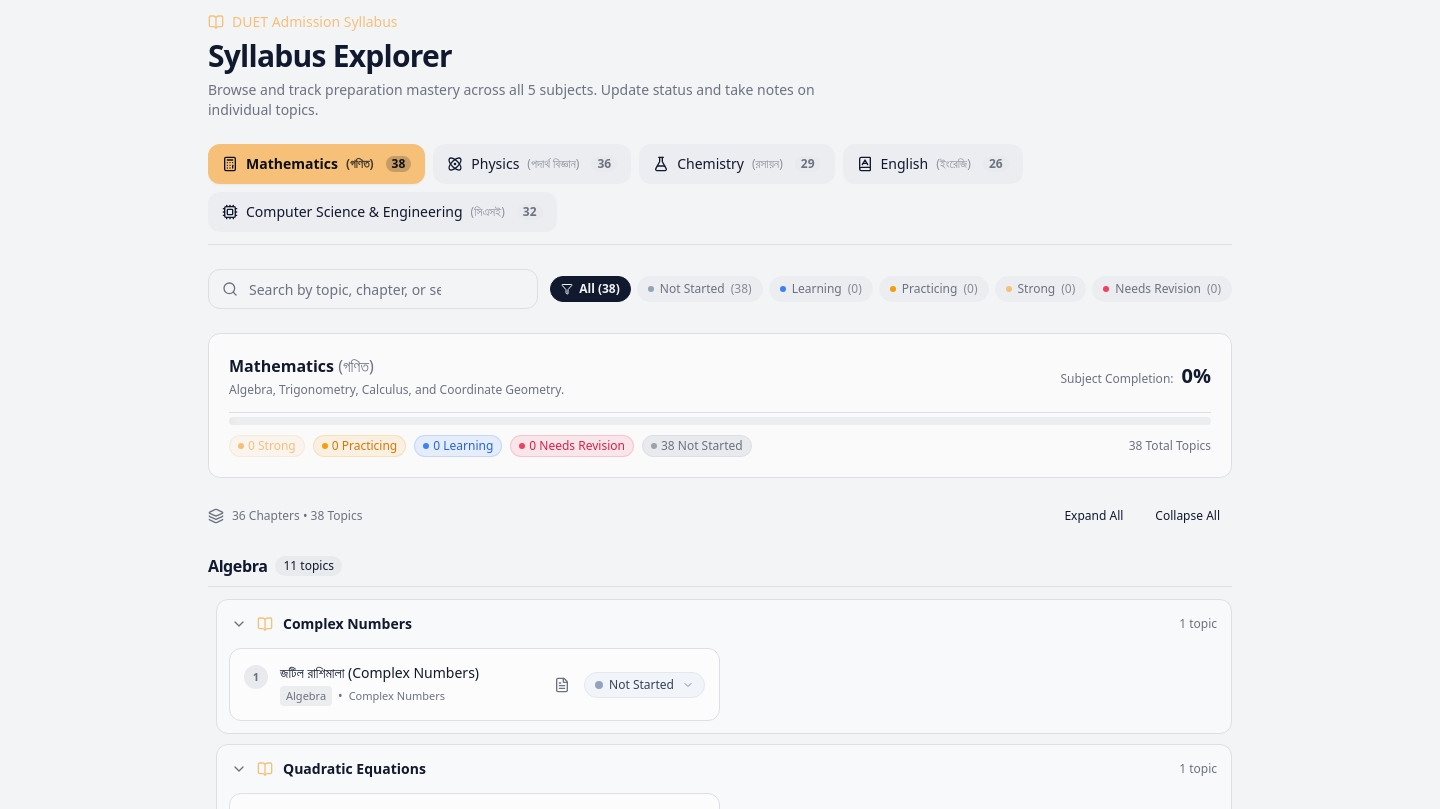
Test: SyllabusPage › displays status breakdown counts and updates topic status
The image size is (1440, 809).
expect the text "All (38)" is shown: met, box top-left (579, 281), bottom-right (620, 297)
expect the text "0 Strong" is shown: met, box top-left (229, 435), bottom-right (305, 457)
Open dropdown for the first topic
Click the button "Not Started".
click(645, 685)  # box top-left (584, 672), bottom-right (705, 698)
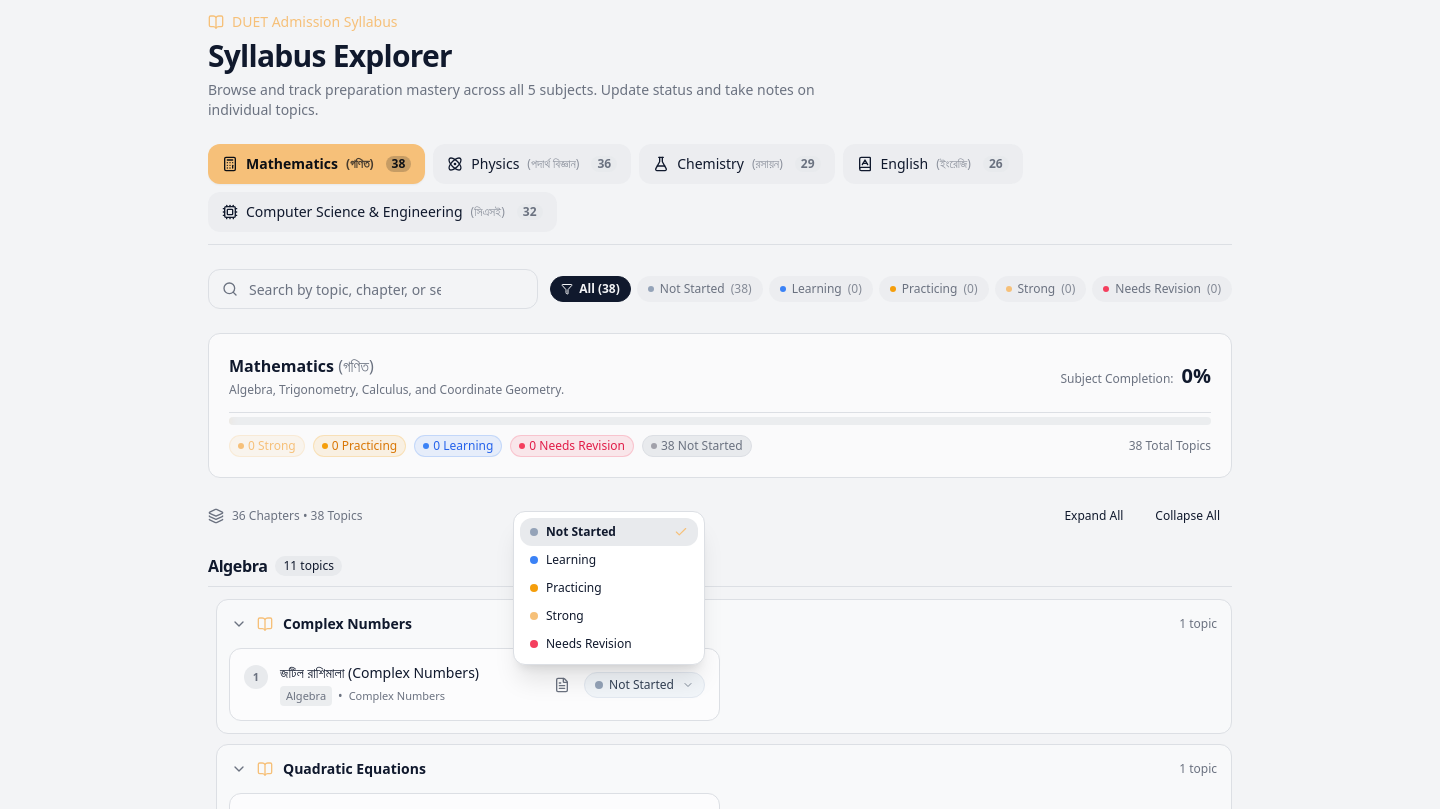
Click "Strong" option in the listbox
Click the option "Strong".
click(609, 616)  # box top-left (520, 602), bottom-right (698, 630)
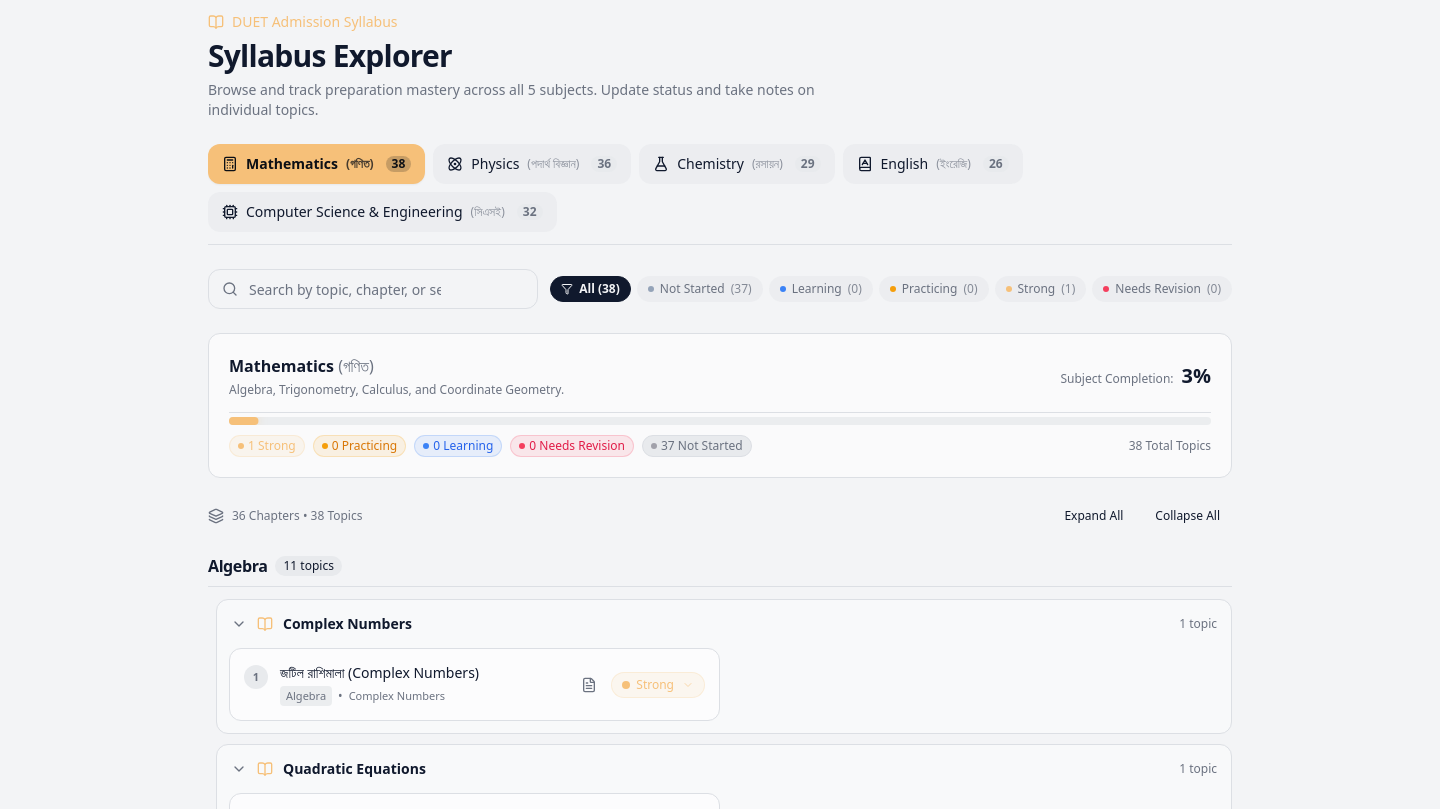
expect the text "1 Strong" is shown: met, box top-left (229, 435), bottom-right (305, 457)
